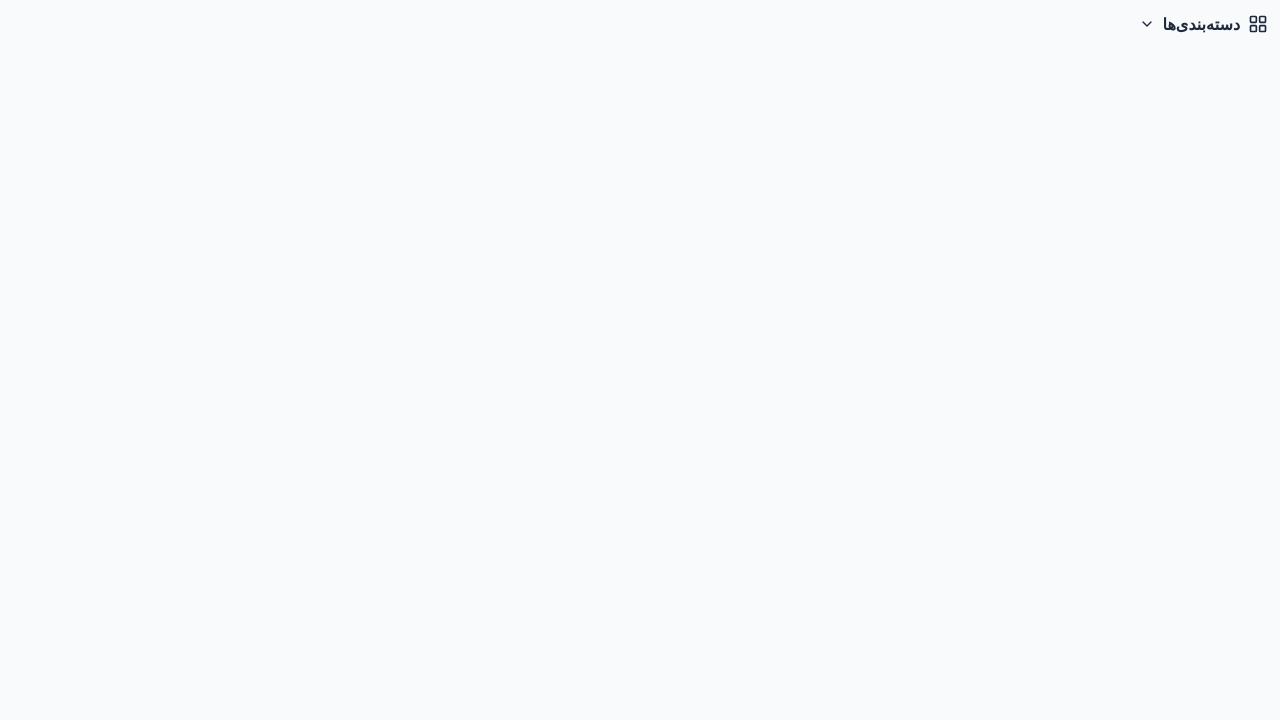
Test: CategoriesDrawer › opens the category tree as an accordion and closes when a link is followed
The image size is (1280, 720).
Step 1. Click the button "دسته‌بندی‌ها" → (1203, 24), box [1126,0,1279,48]
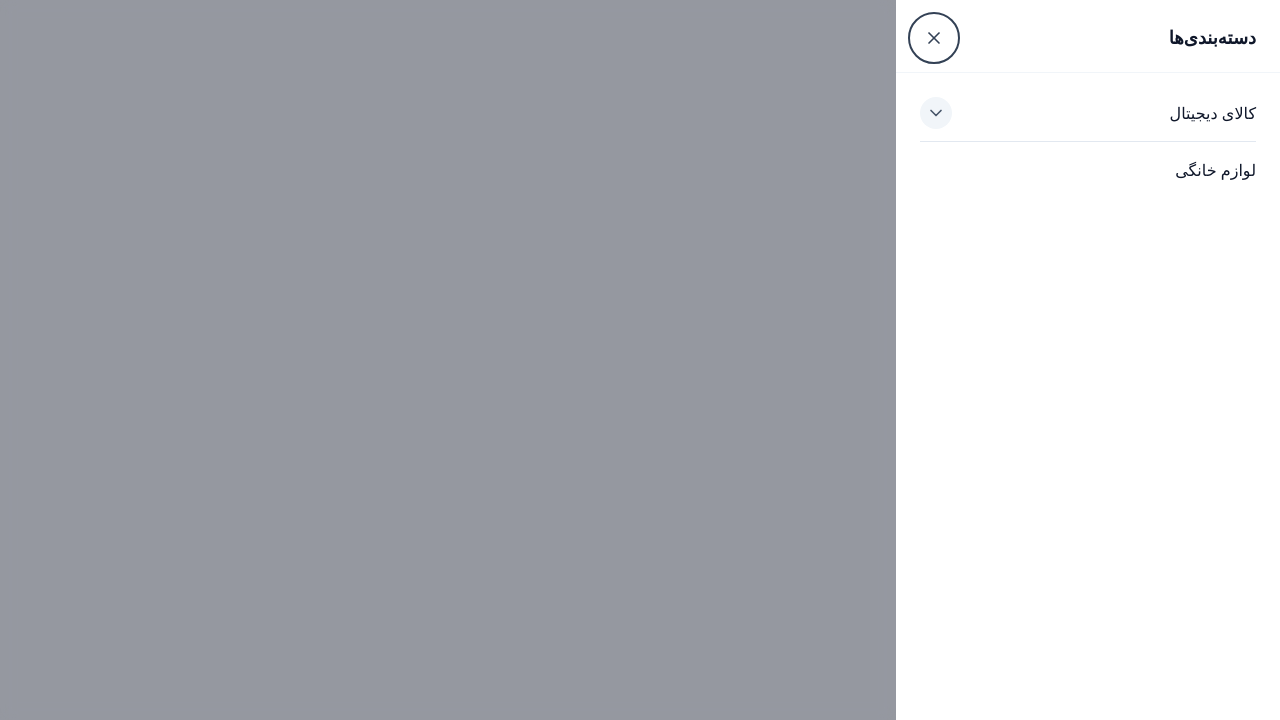
Expected: the button "دسته‌بندی‌ها" is expanded, [1126,0,1279,48]
Step 2. Click the button "کالای دیجیتال" → (1213, 113), box [920,85,1256,141]
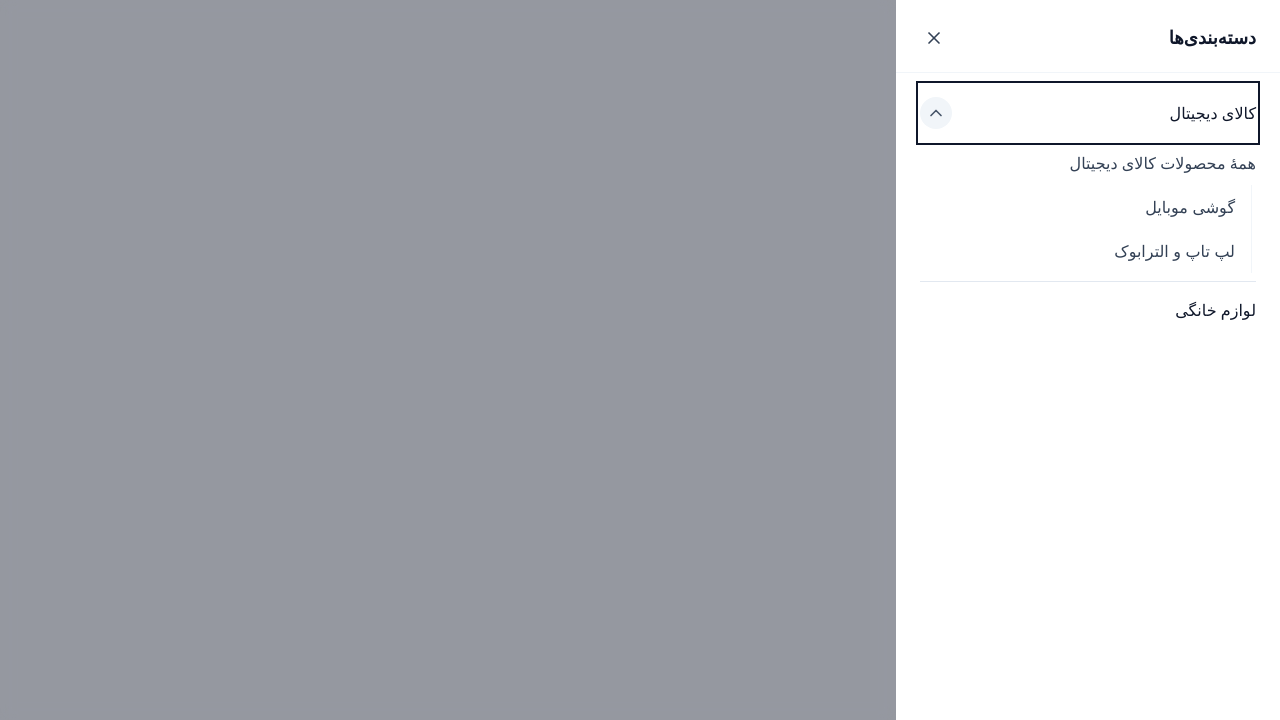
Step 3. Click the link "گوشی موبایل" → (1190, 207), box [1145,197,1235,217]
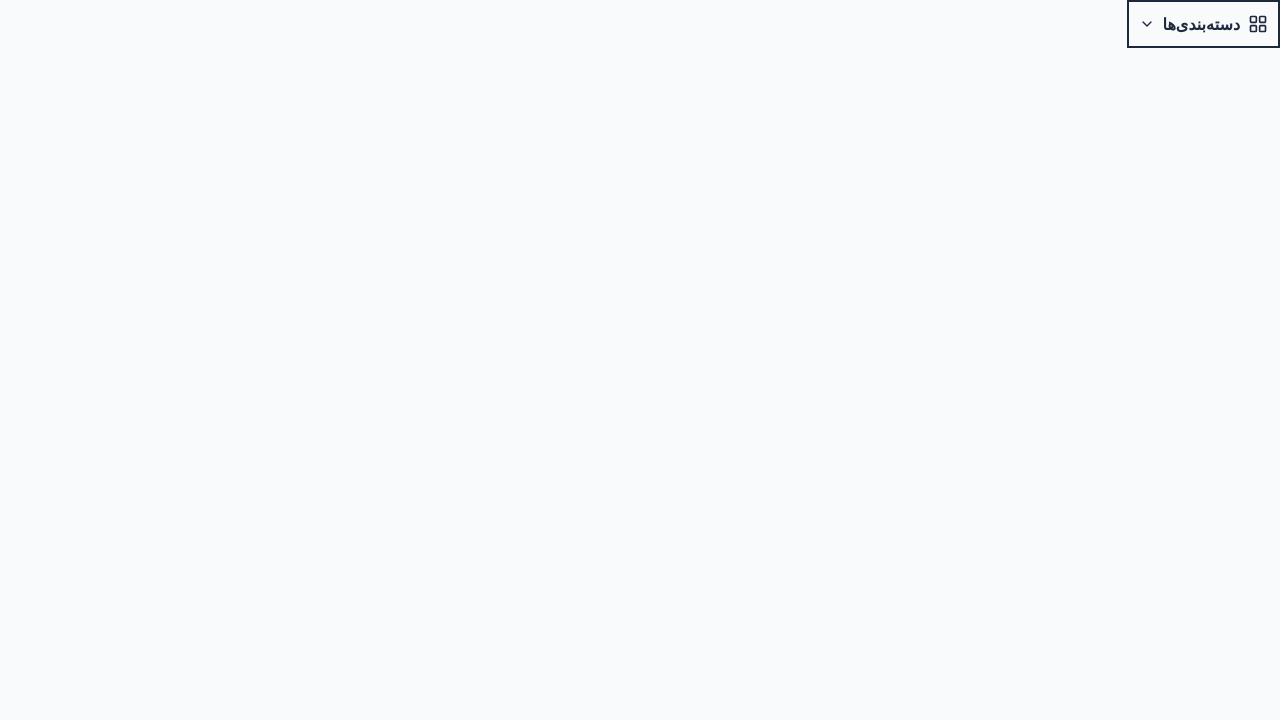
Expected: the dialog is gone
